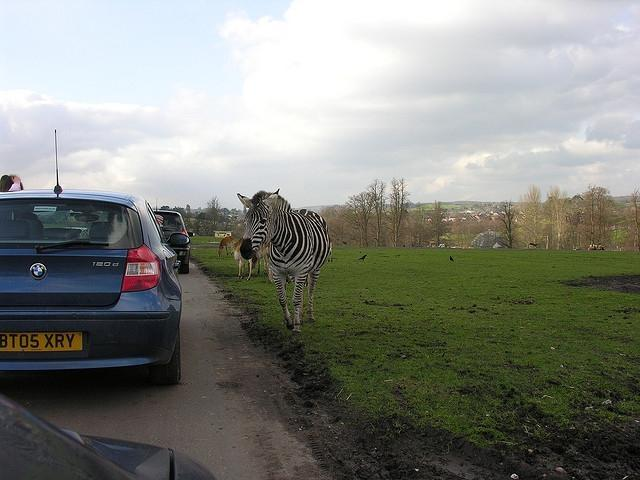car: (0, 128, 194, 384), (2, 395, 216, 480), (153, 209, 195, 274)
